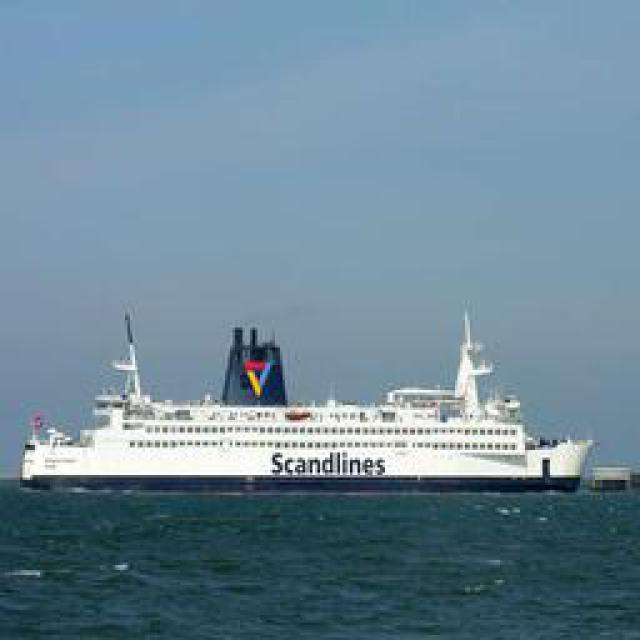Ship: (17, 298, 605, 496)
